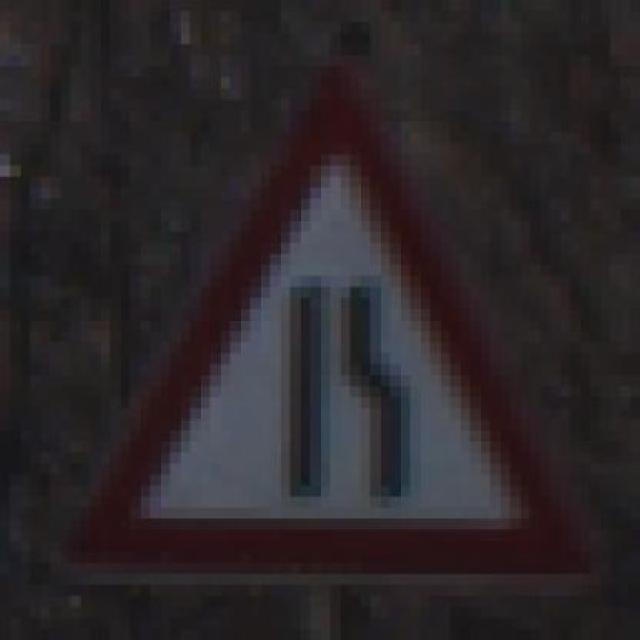-Road narrows on right: (60, 55, 611, 596)
